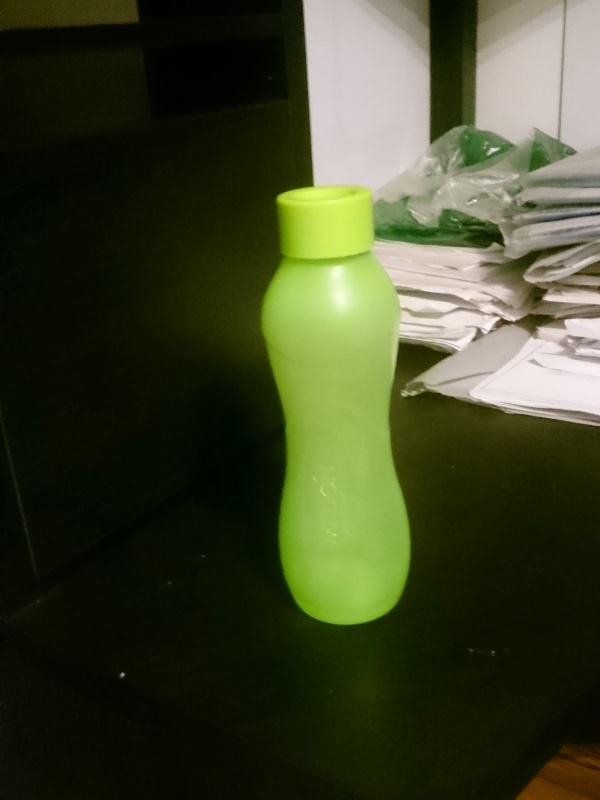my bottle: (258, 186, 411, 625)
